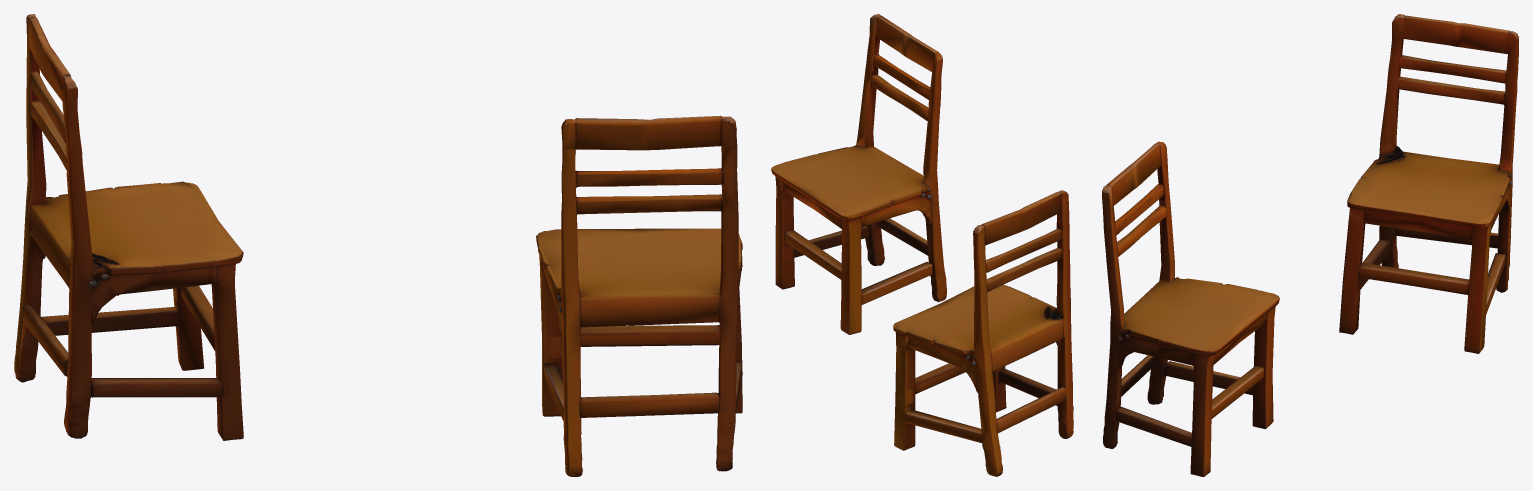
Rendered from 茶馆外观3d模型_1.fbx.
3 renders of one model, left to right at view 1: azimuth 30°, elevation 25°; view 2: azimuth 150°, elevation 25°; view 3: azimuth 270°, elevation 25°, orthographic. The views are drawn at different scales.
Visible parts, largest first — view 1: meshes[0]; view 2: meshes[0]; view 3: meshes[0].
Part boxes in pixels (x1=…): meshes[0]: x1=14, y1=14, x2=742, y2=476; meshes[0]: x1=771, y1=14, x2=1073, y2=476; meshes[0]: x1=1102, y1=14, x2=1518, y2=476.
Size of the model in its own units: 0.998 by 0.6426 by 0.8926.
